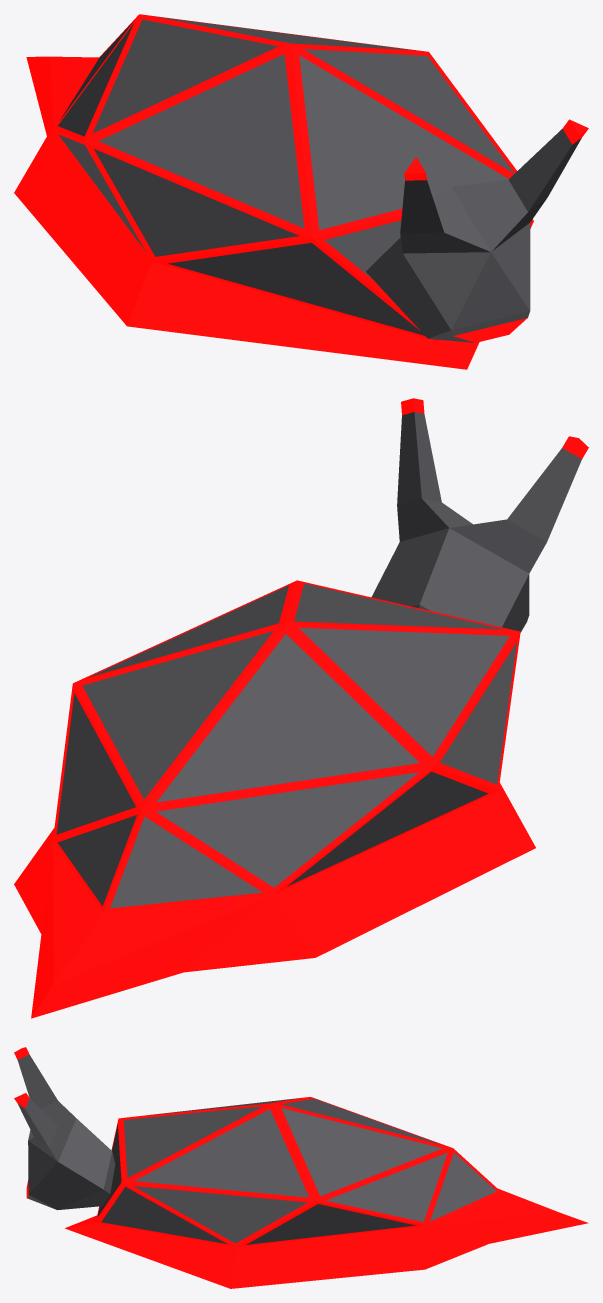
File: slug.glb
The picture shows the model from 3 angles, top to bottom: view 1: azimuth 30°, elevation 25°; view 2: azimuth 150°, elevation 25°; view 3: azimuth 270°, elevation 25°; orthographic projection. The views are drawn at different scales.
Visible parts, largest first — view 1: Icosphere; view 2: Icosphere; view 3: Icosphere.
Boxes of the visible parts, bbox=[...] form: Icosphere: bbox=[14, 14, 588, 369]; Icosphere: bbox=[14, 398, 588, 1018]; Icosphere: bbox=[14, 1047, 588, 1288].
Size of the model in its own units: 2 by 1.19 by 3.94.
